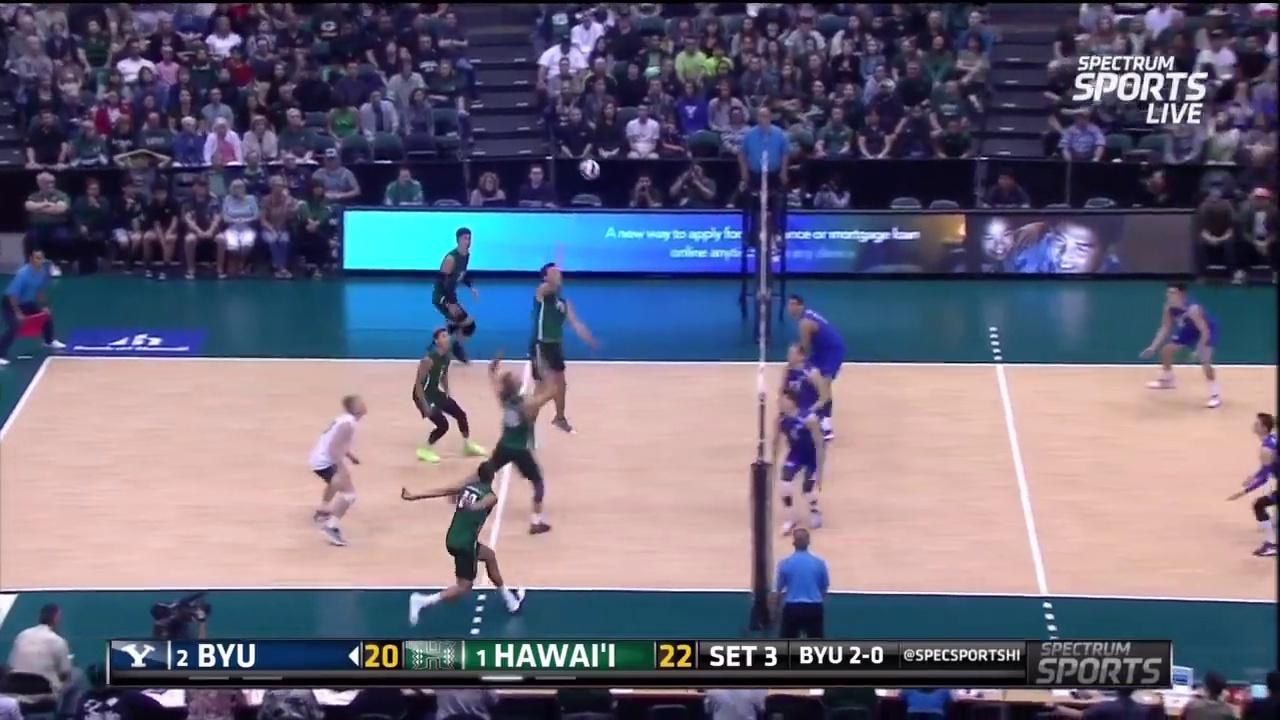player: (400, 461, 533, 626), (480, 354, 558, 531), (516, 262, 595, 431), (780, 292, 848, 443), (764, 387, 830, 537), (1139, 286, 1222, 404), (309, 395, 372, 545), (776, 339, 829, 493), (414, 325, 473, 462), (429, 222, 485, 366), (1229, 413, 1280, 555)
refree: (739, 109, 795, 251), (769, 526, 836, 643), (0, 251, 65, 369)
